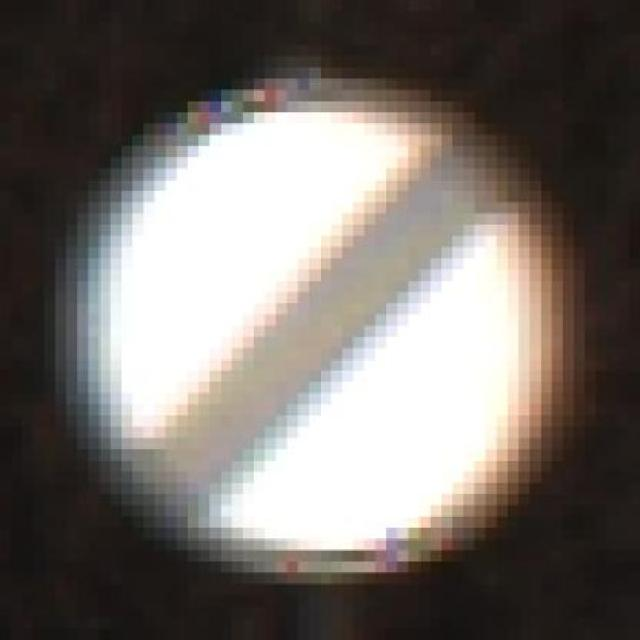End of all speed and passing limits: (55, 56, 596, 573)
